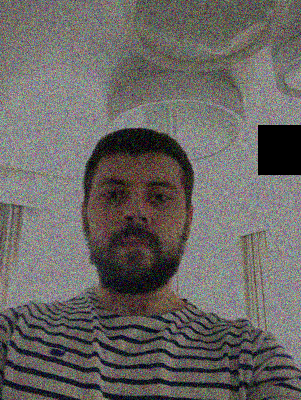without_mask: (89, 171, 183, 297)
